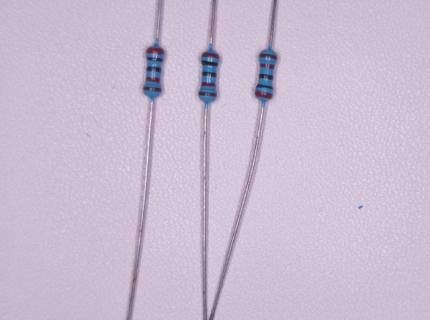Black band: (255, 83, 274, 89), (201, 60, 218, 66), (146, 67, 161, 73), (259, 74, 273, 80), (147, 57, 163, 62), (202, 72, 216, 77)
Brown band: (259, 54, 277, 60), (199, 92, 216, 96), (145, 87, 161, 91)
Red band: (255, 91, 273, 99), (146, 48, 165, 53), (202, 53, 219, 58), (146, 77, 160, 83), (261, 64, 275, 70), (202, 82, 216, 86)
